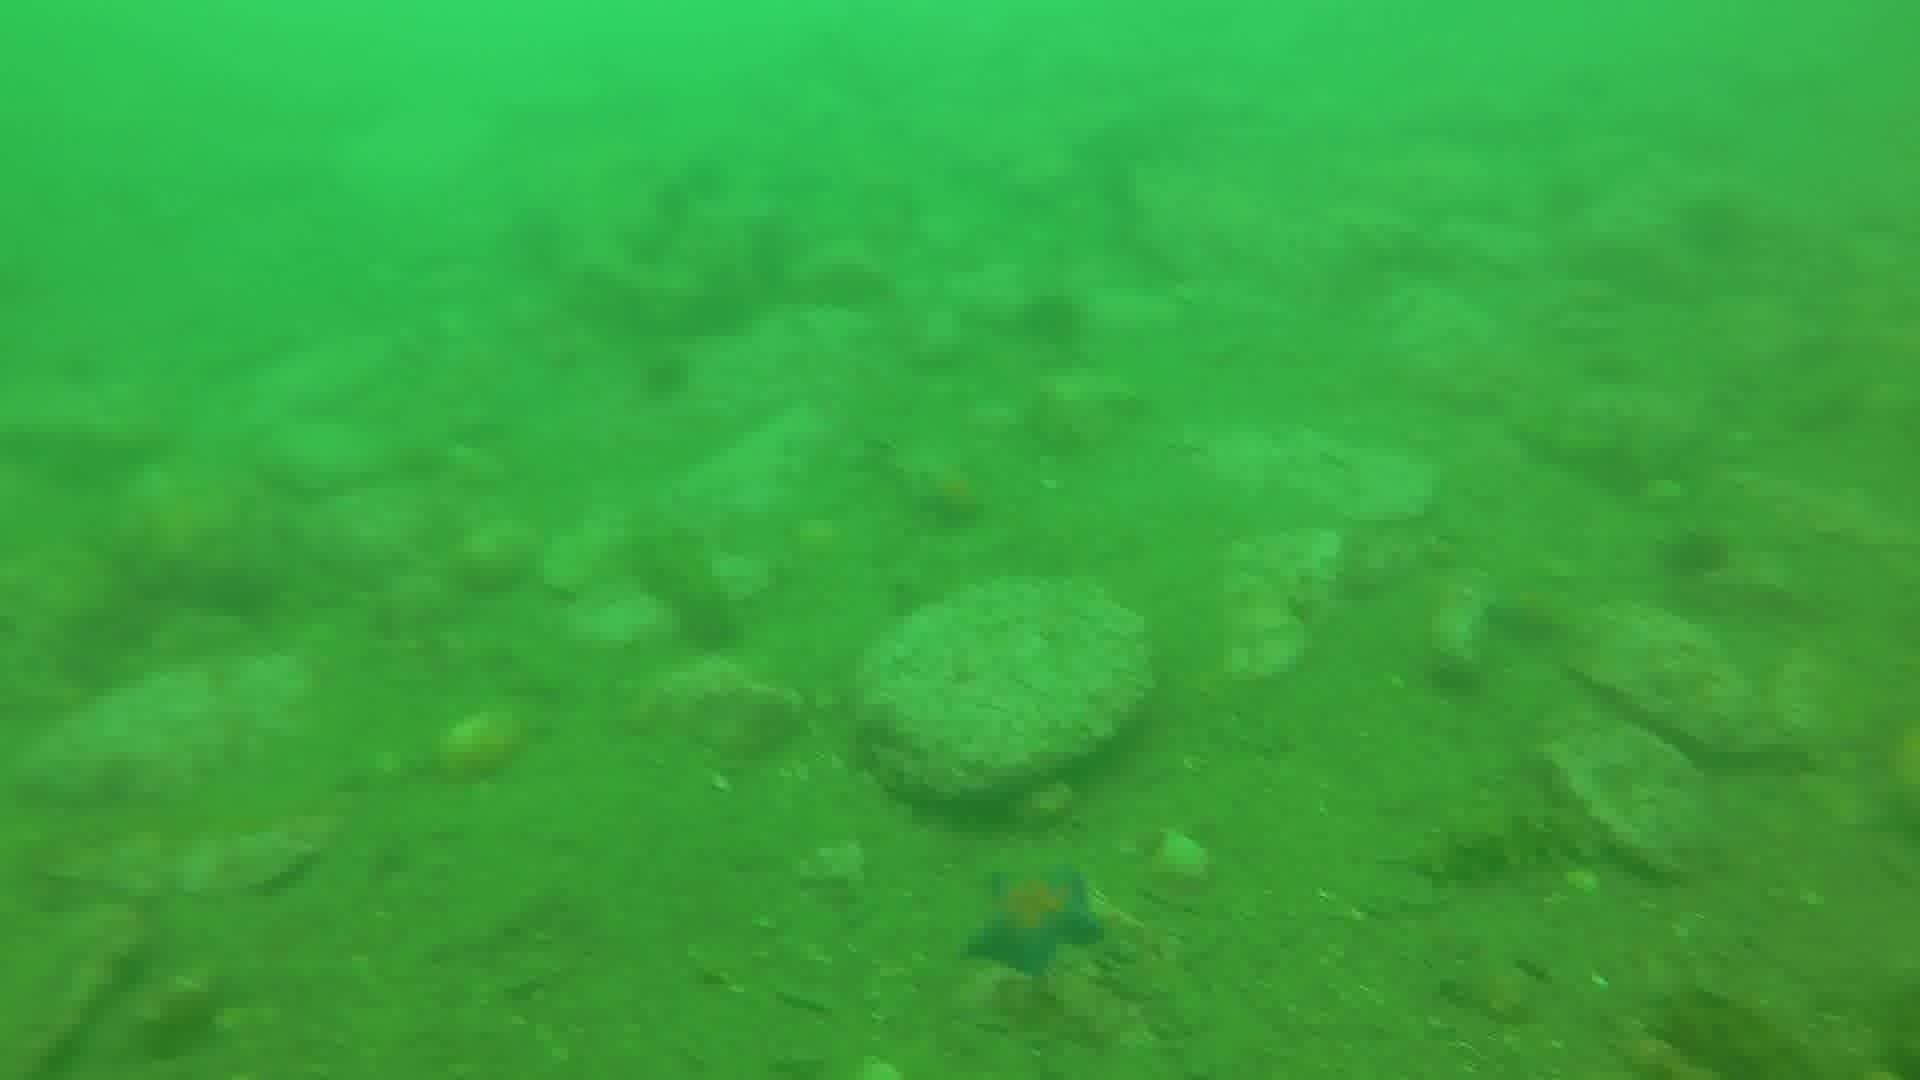echinus: (1014, 287, 1092, 357), (1658, 524, 1737, 587), (632, 348, 698, 406)
holothurian: (1404, 802, 1598, 891)
starfish: (960, 858, 1108, 982)
